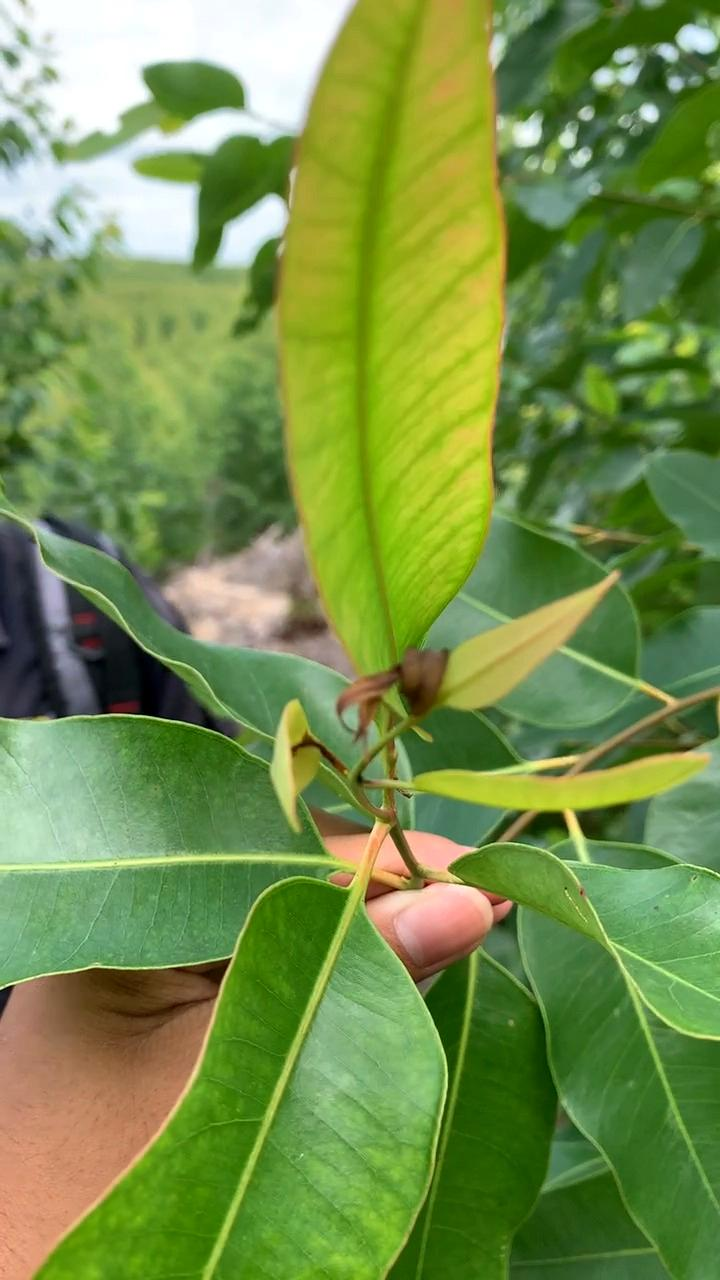Helopeltis-Withered Sprout: (333, 635, 463, 735)
